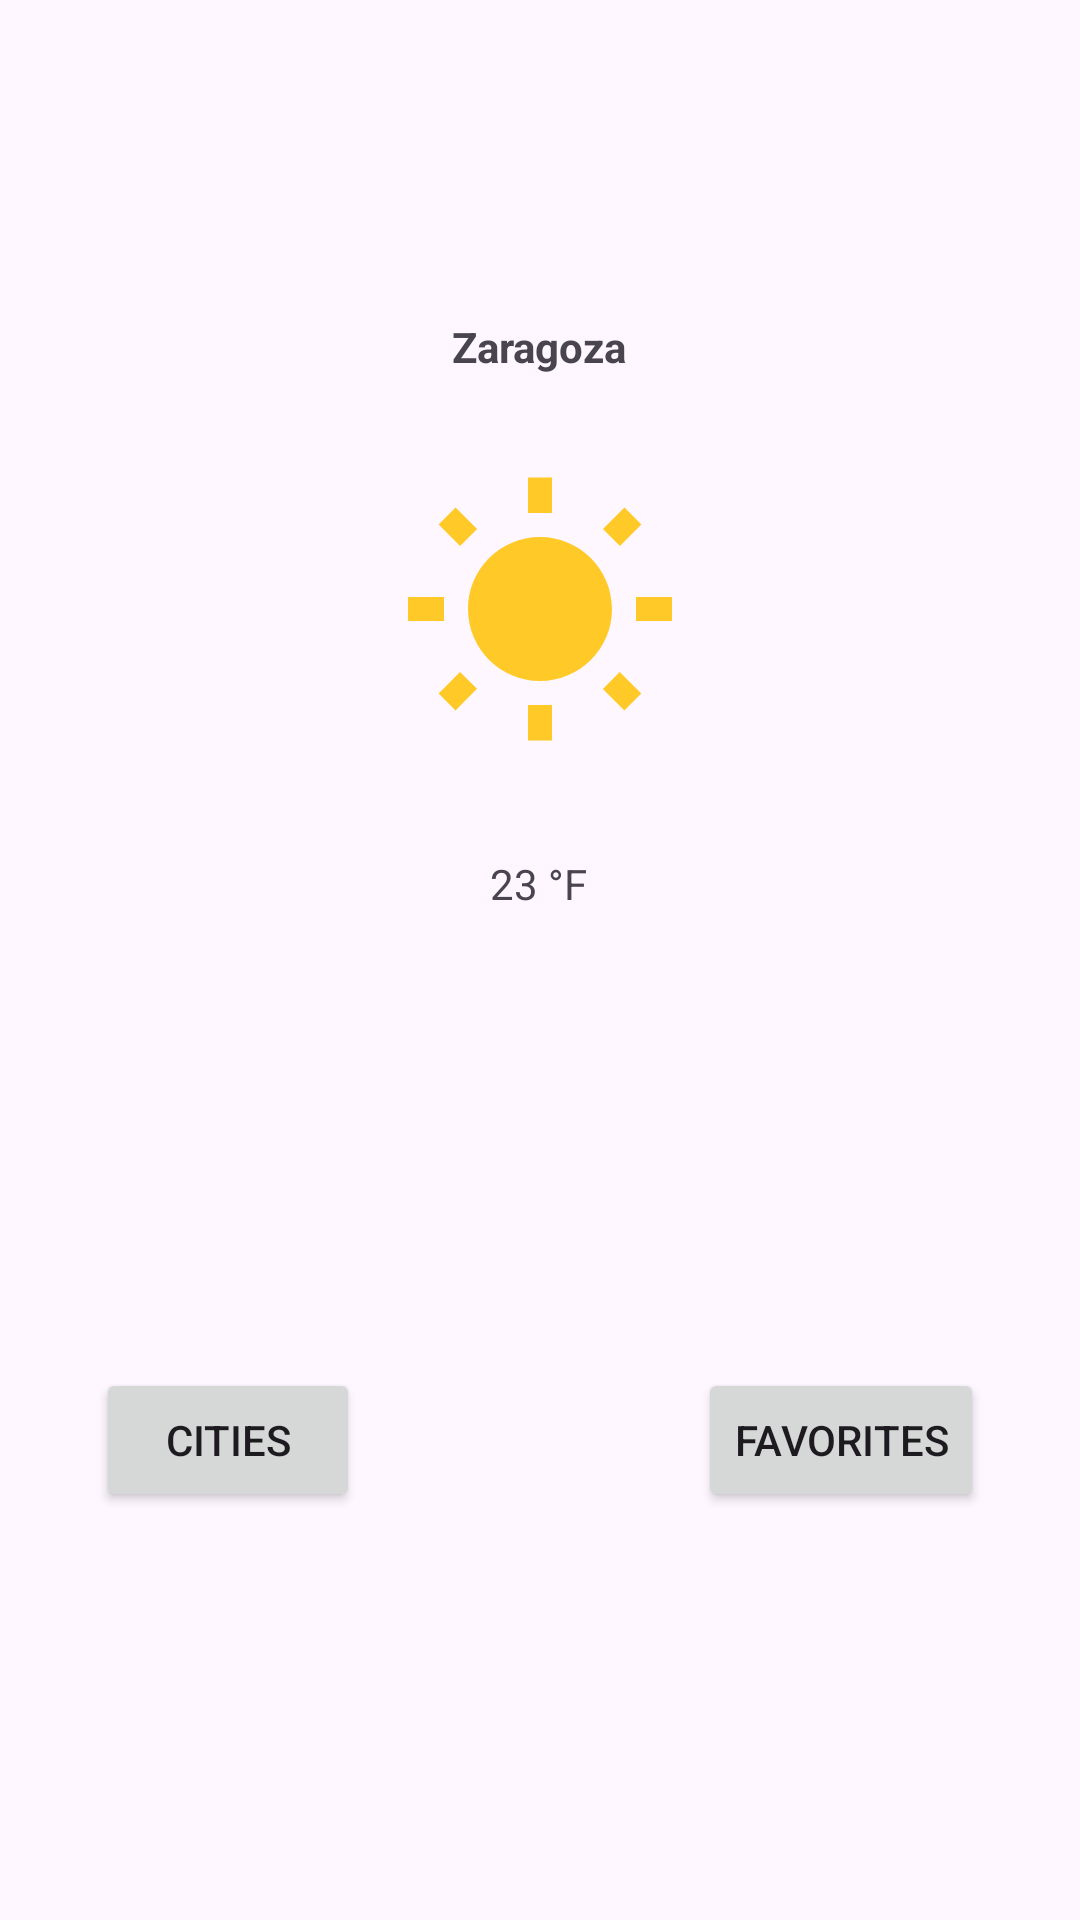

Locate icon controls on the screen. Image size 1080 x 1920, boxes as [x1,y1,x2,y2].
sunny: [408,477,672,741]
